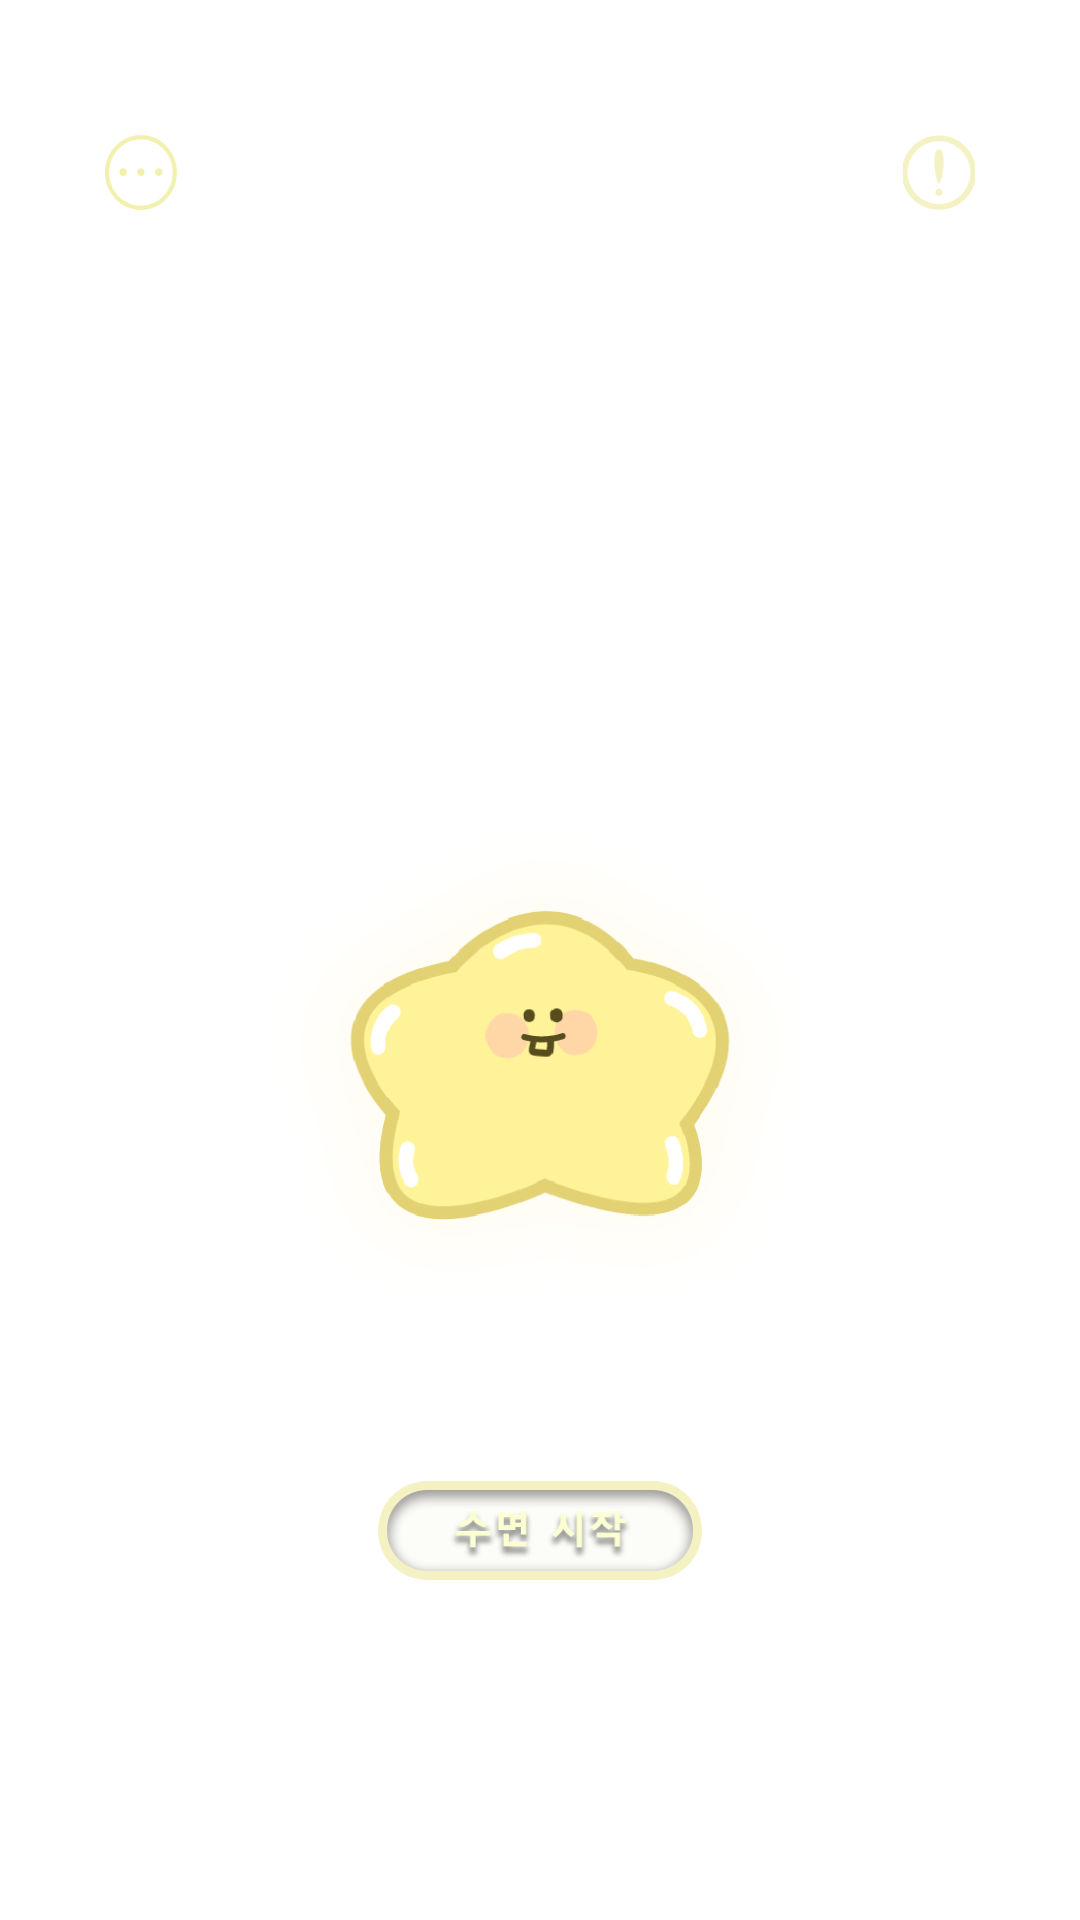

Screen size 1080 x 1920. Icon name, then its box in pixels as [x1,y1,x2,y2]:
issue: [903,135,975,210]
show more: [105,135,177,210]
